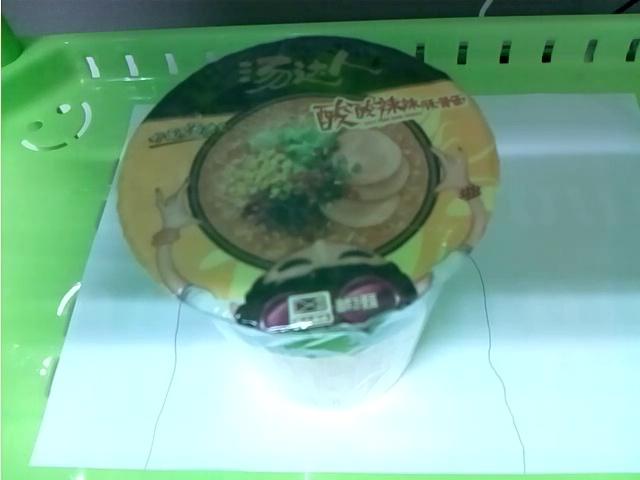noodles: (116, 34, 502, 411)
